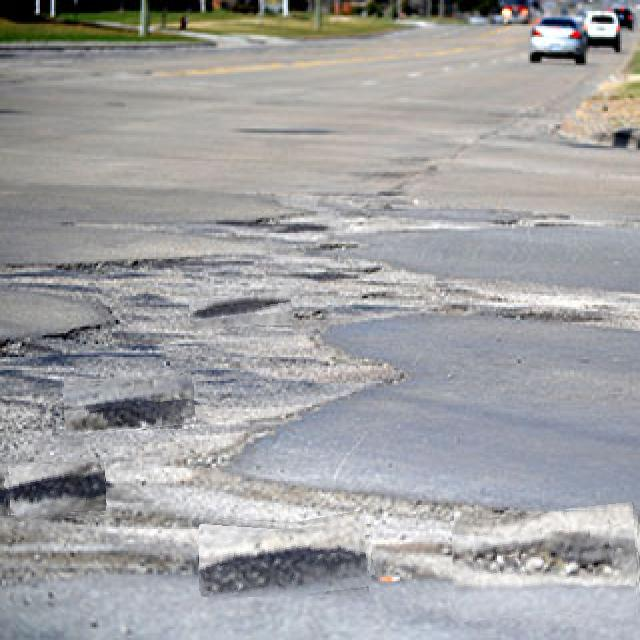Pothole: (452, 507, 640, 618), (200, 517, 373, 597), (63, 376, 195, 433), (6, 462, 106, 519), (190, 293, 292, 327)
